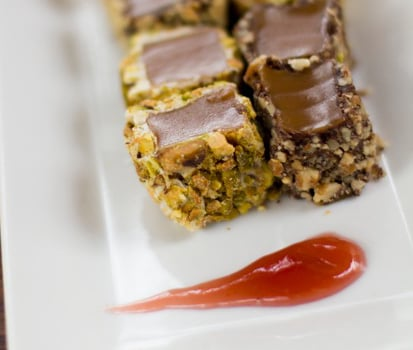soup: (118, 3, 275, 230)
